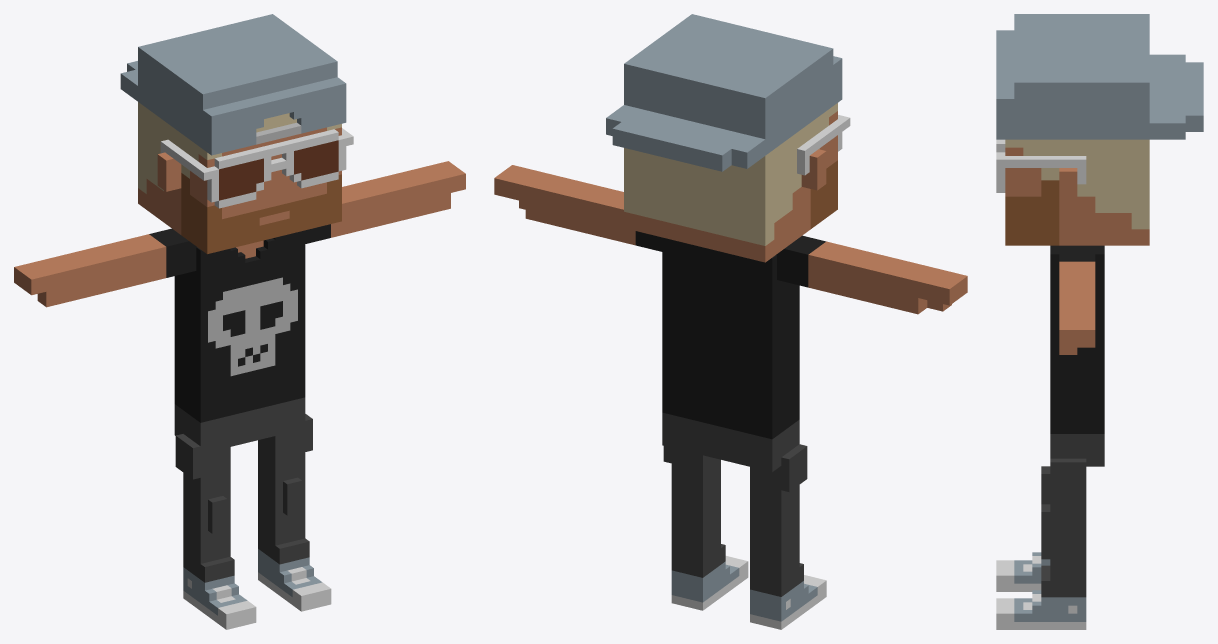
File: meebit.fbx
3 renders of one model, left to right at view 1: azimuth 30°, elevation 25°; view 2: azimuth 150°, elevation 25°; view 3: azimuth 270°, elevation 25°, orthographic. The views are drawn at different scales.
Visible parts, largest first — view 1: meebit; view 2: meebit; view 3: meebit.
Boxes of the visible parts, x1,y1,x2,y2 form: meebit: [14, 14, 465, 629]; meebit: [494, 14, 967, 629]; meebit: [996, 14, 1203, 629].
Size of the model in its own units: 145 by 170 by 57.5.
